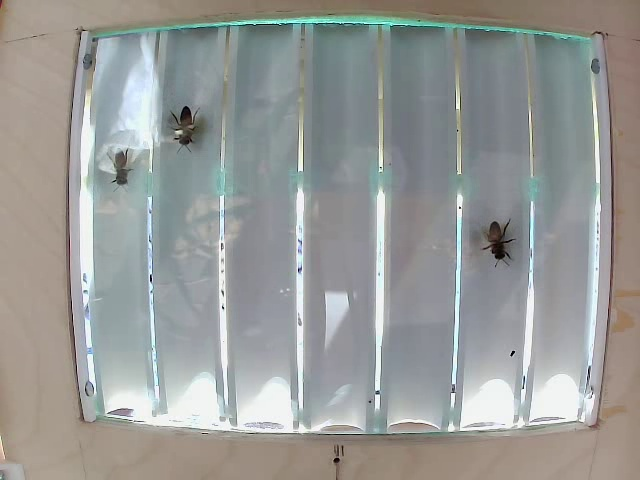bee: (470, 200, 513, 274), (164, 99, 215, 158), (96, 144, 143, 185)
